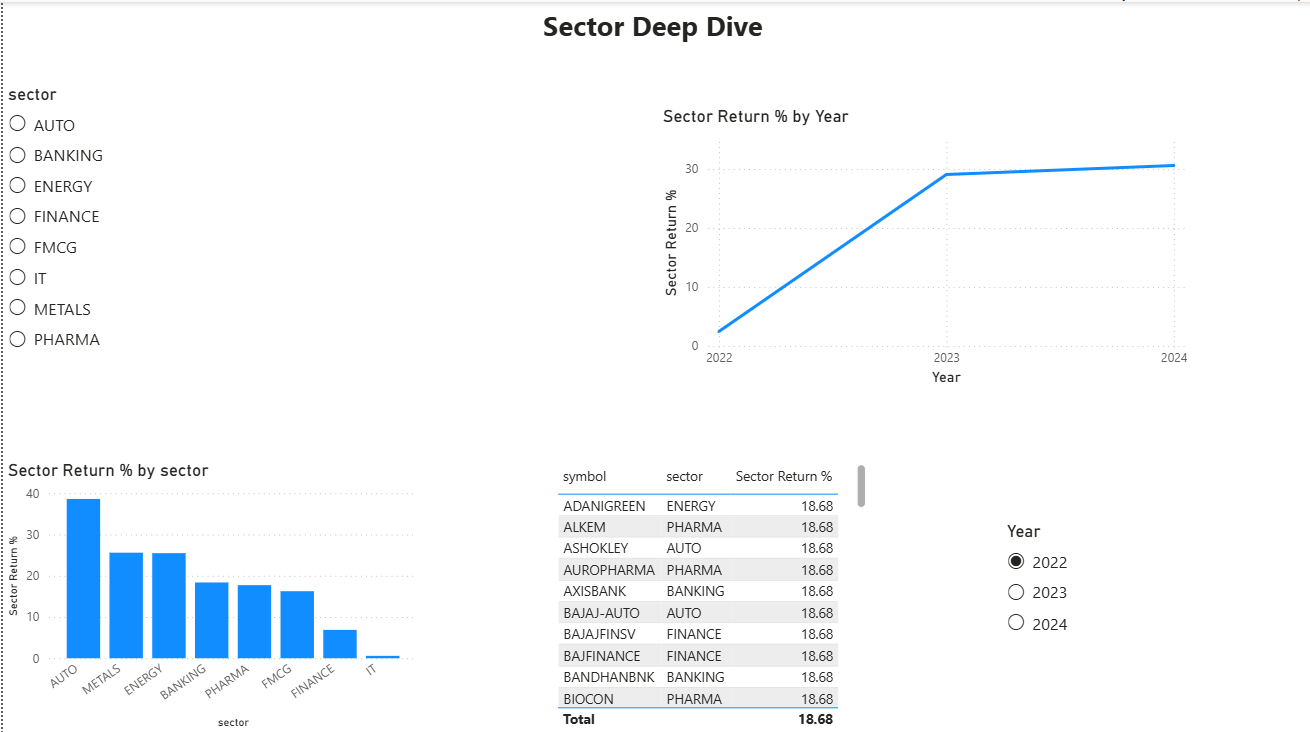

What the dashboard file says about the page in this screenshot:
{"tool":"powerbi","page":{"name":"Page 2","canvas":[1280,720],"ordinal":1},"visuals":[{"type":"listSlicer","fields":{"Values":["public sector_returns.sector"]},"box":[0,78.9,189.5,280.7],"z":0},{"type":"lineChart","fields":{"Category":["public sector_returns.date.Variation.Date Hierarchy.Year","public sector_returns.date.Variation.Date Hierarchy.Quarter","public sector_returns.date.Variation.Date Hierarchy.Month","public sector_returns.date.Variation.Date Hierarchy.Day"],"Y":["public sector_returns.Sector Return %"]},"box":[640.4,101.8,522.8,278.9],"z":1000},{"type":"tableEx","fields":{"Values":["public master_stocks.symbol","public master_stocks.sector","public sector_returns.Sector Return %"]},"box":[536.8,447.4,312.3,268.4],"z":3000},{"type":"listSlicer","fields":{"Values":["dates.Date.Variation.Date Hierarchy.Year"]},"box":[977.2,507,303.5,150.9],"z":4000},{"type":"textbox","box":[522.8,0,235.1,57.9],"z":4001},{"type":"clusteredColumnChart","fields":{"Category":["public sector_returns.sector"],"Y":["public sector_returns.Sector Return %"]},"box":[0,447.4,410.5,268.4],"z":4002}]}

Visuals, with their boxes in screenshot pixels (x1, y1, x2, y2), scaled from the page's 1280x720 canvas onto the 1310x732 screenshot:
listSlicer - public sector_returns.sector: detection(0, 80, 194, 366)
lineChart - public sector_returns.date.Variation.Date Hierarchy.Year x public sector_returns.date.Variation.Date Hierarchy.Quarter: detection(655, 103, 1190, 387)
tableEx - public master_stocks.symbol x public master_stocks.sector: detection(549, 455, 869, 728)
listSlicer - dates.Date.Variation.Date Hierarchy.Year: detection(1000, 515, 1309, 669)
textbox: detection(535, 0, 776, 59)
clusteredColumnChart - public sector_returns.sector x public sector_returns.Sector Return %: detection(0, 455, 420, 728)
